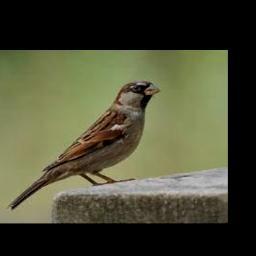Sparrow: (7, 81, 160, 210)
